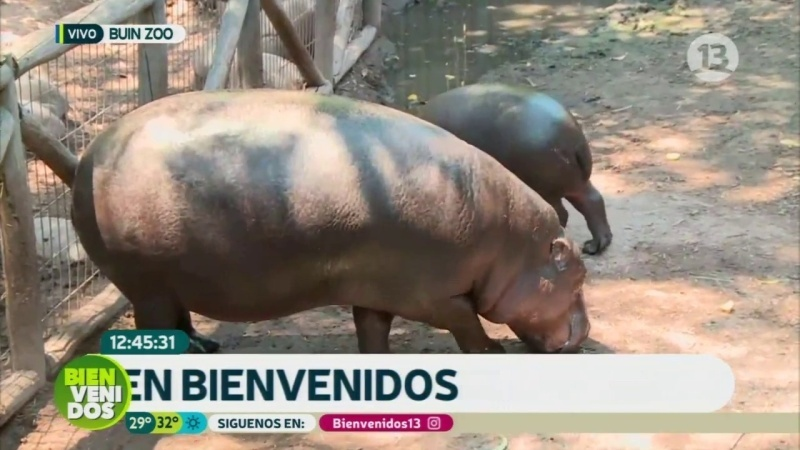hipopotamo: (69, 84, 593, 352), (402, 70, 632, 260)
